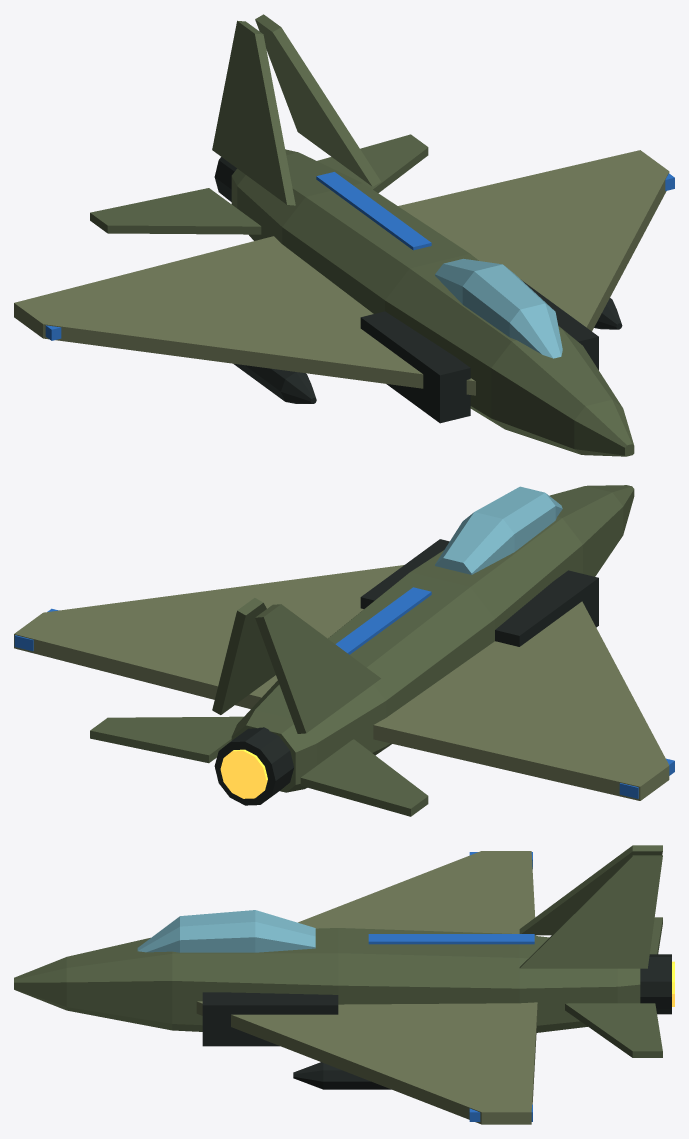
Rendered from air_h_jet.glb.
The picture shows the model from 3 angles, top to bottom: view 1: azimuth 30°, elevation 25°; view 2: azimuth 150°, elevation 25°; view 3: azimuth 270°, elevation 25°; orthographic projection. The views are drawn at different scales.
Parts seen in each view (by area): view 1: Fighter; view 2: Fighter; view 3: Fighter.
Part boxes in pixels (bbox=[...]): Fighter: bbox=[14, 14, 674, 456]; Fighter: bbox=[14, 485, 674, 816]; Fighter: bbox=[14, 845, 674, 1124].
Size of the model in its own units: 4.1 by 1.28 by 4.38.
